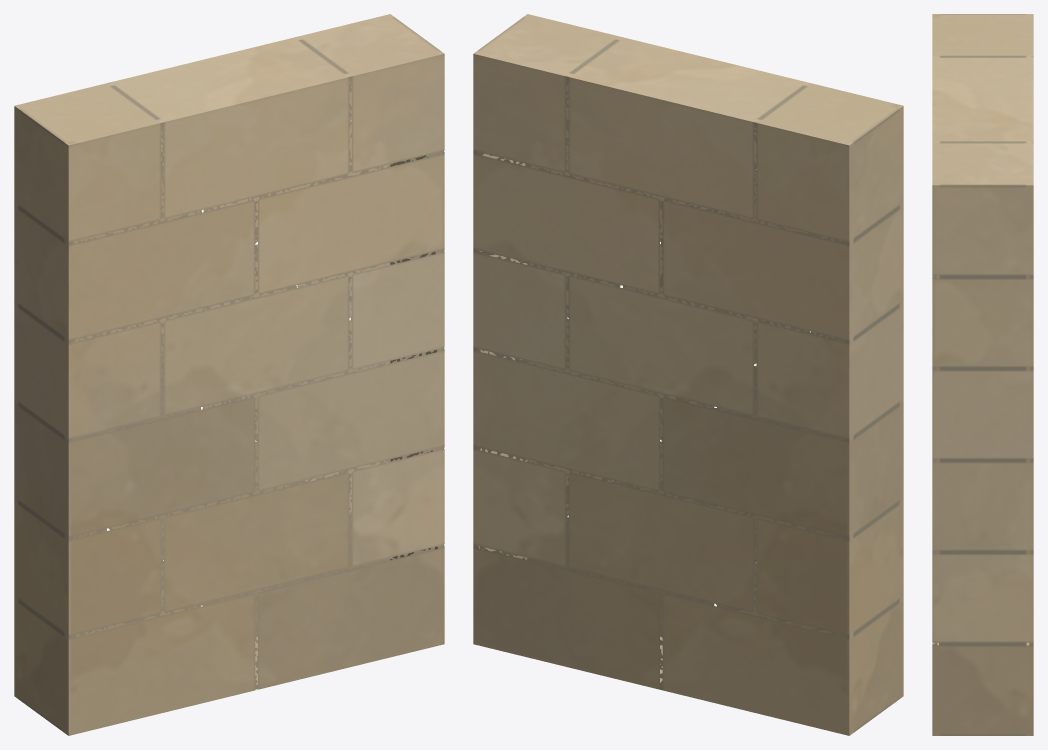
Rendered from L03_BakedWall_UV2.fbx.
The picture shows the model from 3 angles, left to right: view 1: azimuth 30°, elevation 25°; view 2: azimuth 150°, elevation 25°; view 3: azimuth 270°, elevation 25°; orthographic projection. The views are drawn at different scales.
Visible parts, largest first — view 1: L03_Runtime.001; view 2: L03_Runtime.001; view 3: L03_Runtime.001.
Boxes of the visible parts, x1,y1,x2,y2 form: L03_Runtime.001: (14, 14, 444, 735); L03_Runtime.001: (473, 14, 903, 735); L03_Runtime.001: (932, 14, 1033, 735).
Bounding box in the file's own units: 2 × 3 × 0.5.
